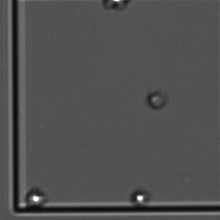Dead Cell: (142, 88, 170, 111)
Living Cell: (128, 185, 153, 205), (26, 185, 47, 206), (103, 1, 131, 11)
